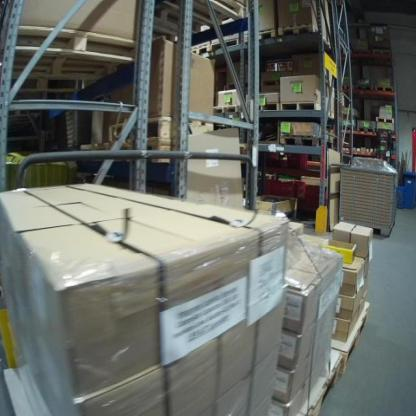pallet: (3, 25, 141, 103), (329, 288, 373, 379), (147, 0, 247, 36), (104, 114, 216, 145), (294, 352, 343, 415), (279, 21, 329, 42), (281, 100, 335, 117), (278, 134, 334, 150), (211, 29, 244, 56), (243, 27, 277, 47), (187, 39, 210, 62), (249, 101, 280, 114), (215, 101, 245, 114), (260, 77, 295, 87), (373, 83, 397, 95), (355, 83, 373, 94), (377, 112, 396, 122), (336, 82, 353, 92), (355, 127, 376, 135), (342, 125, 356, 134)
pallet_truck: (371, 125, 399, 169)
stillage: (338, 161, 401, 240), (42, 98, 77, 151)
